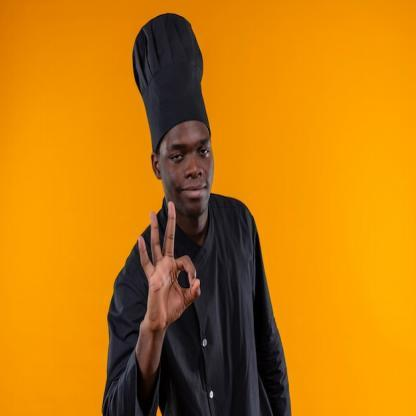ok: (135, 198, 203, 328)
